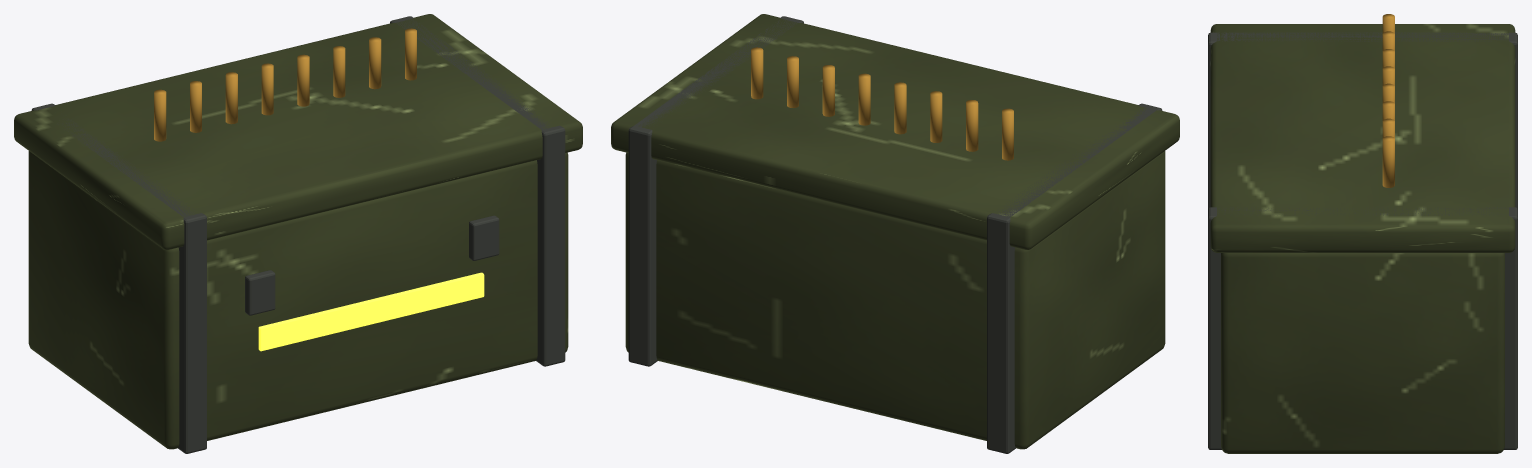
Rendered from ammo-crate.glb.
3 renders of one model, left to right at view 1: azimuth 30°, elevation 25°; view 2: azimuth 150°, elevation 25°; view 3: azimuth 270°, elevation 25°, orthographic.
Parts seen in each view (by area): view 1: Cube, CrateLid, Cube.002, Cube.001, CrateStrip, Cube.004, Cube.003, Cylinder.003, Cylinder.004, Cylinder.006, Cylinder, Cylinder.002 (+3 smaller); view 2: Cube, CrateLid, Cube.002, Cube.001, Cylinder.003, Cylinder.004, Cylinder.007, Cylinder.001, Cylinder.002, Cylinder.005, Cylinder, Cylinder.006; view 3: CrateLid, Cube, Cube.002, Cube.001, Cylinder.007.
Boxes of the visible parts, x1,y1,x2,y2 form: Cube: (28, 151, 568, 449); CrateLid: (14, 14, 582, 249); Cube.002: (390, 16, 565, 366); Cube.001: (31, 103, 206, 453); CrateStrip: (258, 272, 484, 351); Cube.004: (469, 215, 499, 260); Cube.003: (245, 270, 275, 315); Cylinder.003: (261, 63, 273, 115); Cylinder.004: (297, 54, 309, 106); Cylinder.006: (369, 37, 381, 89); Cylinder: (154, 89, 166, 141); Cylinder.002: (225, 72, 237, 124); Cube: (625, 151, 1165, 449); CrateLid: (611, 14, 1179, 249); Cube.002: (628, 16, 803, 366); Cube.001: (987, 103, 1162, 453); Cylinder.003: (894, 82, 906, 134); Cylinder.004: (858, 73, 870, 125); Cylinder.007: (751, 47, 763, 99); Cylinder.001: (966, 100, 978, 151); Cylinder.002: (930, 91, 942, 142); Cylinder.005: (822, 65, 834, 116); Cylinder: (1002, 108, 1013, 160); Cylinder.006: (787, 56, 798, 107); CrateLid: (1210, 24, 1515, 252); Cube: (1221, 253, 1504, 453); Cube.002: (1208, 207, 1517, 449); Cube.001: (1208, 32, 1517, 208); Cylinder.007: (1382, 136, 1394, 187).
Bounding box in the file's own units: 0.94 × 0.6 × 0.6.
4 materials, 1 textured.
